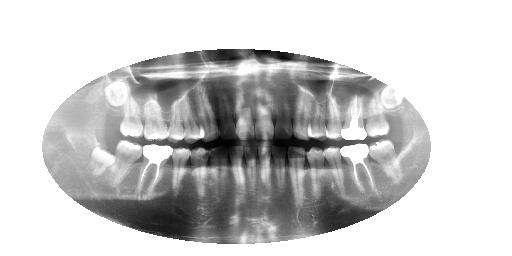Implant: (342, 142, 381, 196), (139, 144, 174, 199), (342, 94, 369, 142)
